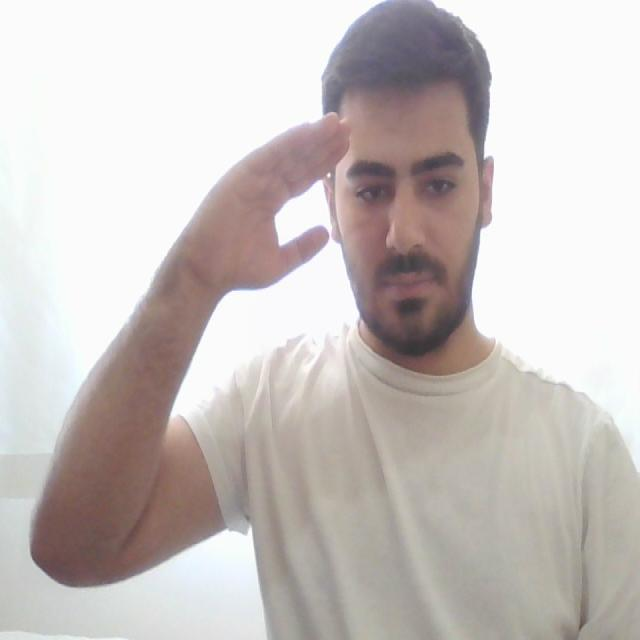Merhaba: (202, 65, 385, 323)
